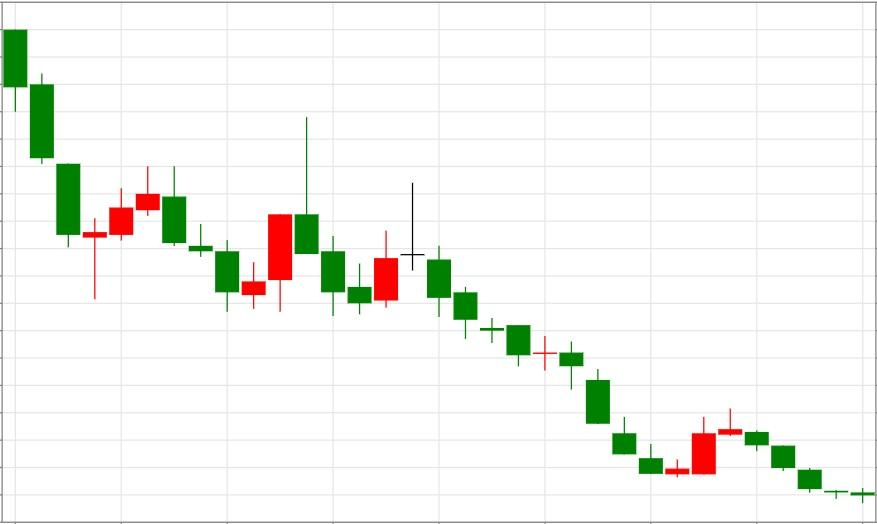morning_star_rise: (0, 27, 135, 299)
shooting_star_fall: (214, 116, 320, 312)
